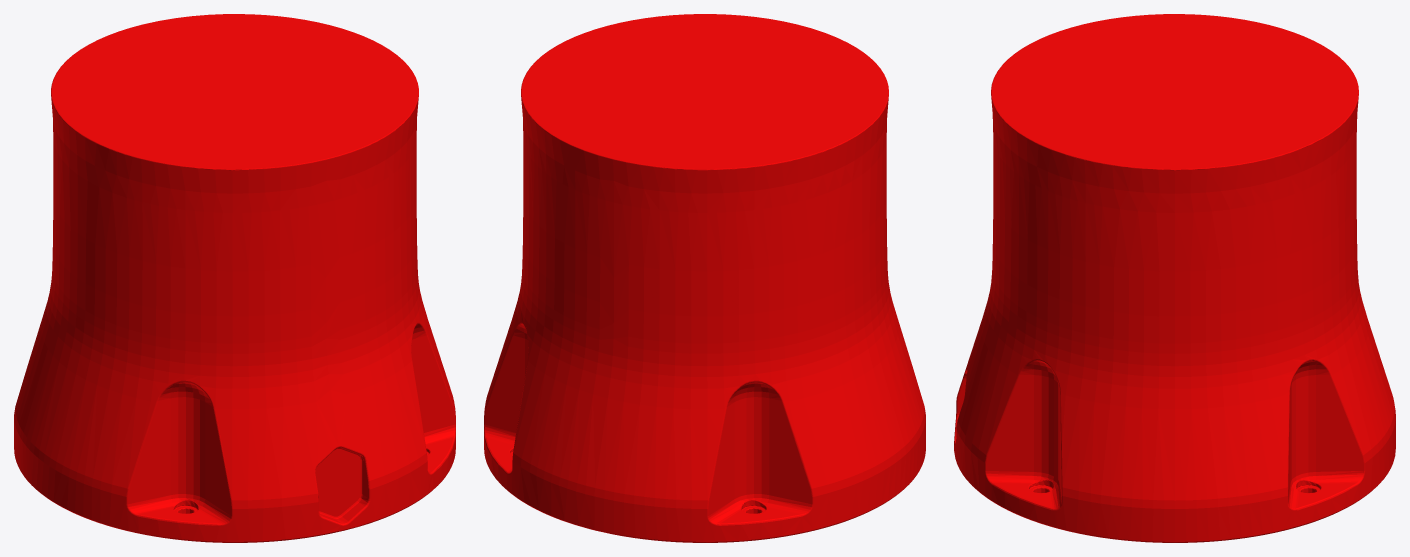
3 renders of one model, left to right at view 1: azimuth 30°, elevation 25°; view 2: azimuth 150°, elevation 25°; view 3: azimuth 270°, elevation 25°, orthographic.
Parts seen in each view (by area): view 1: H2515_0_0; view 2: H2515_0_0; view 3: H2515_0_0.
Boxes of the visible parts, x1,y1,x2,y2 form: H2515_0_0: (14,14,455,542); H2515_0_0: (484,14,925,542); H2515_0_0: (954,14,1395,542).
Size of the model in its own units: 248 by 248 by 222.
